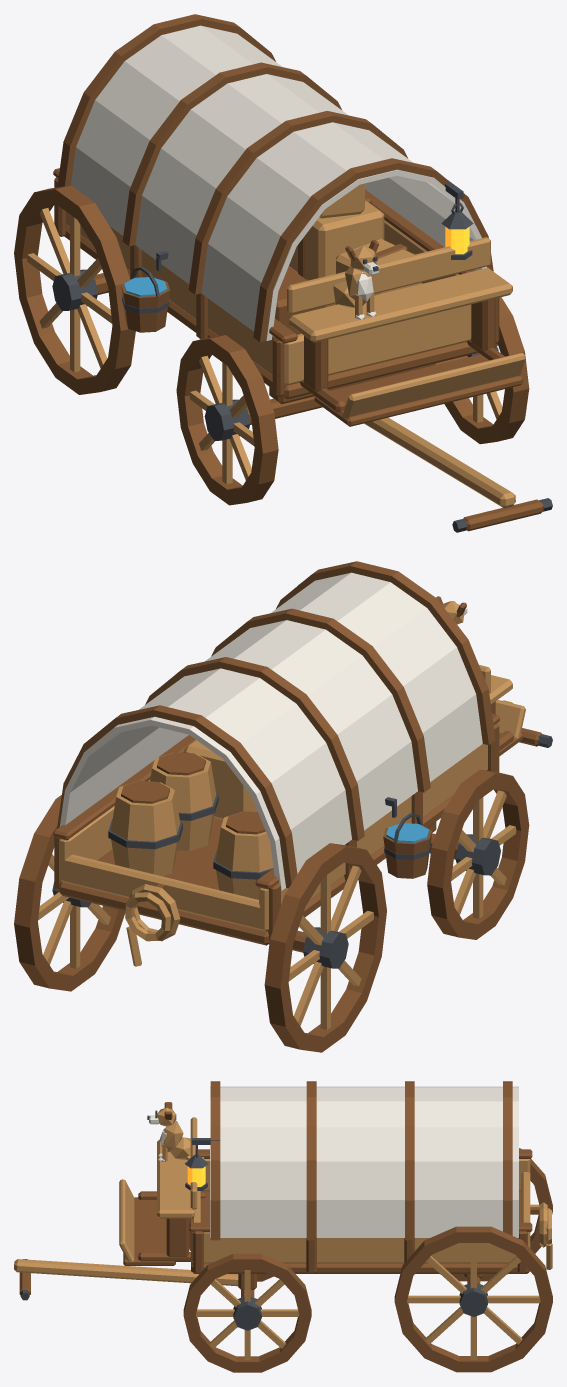
The model's file is merchants-covered-wagon.glb.
3 renders of one model, top to bottom at view 1: azimuth 30°, elevation 25°; view 2: azimuth 150°, elevation 25°; view 3: azimuth 270°, elevation 25°, orthographic. The views are drawn at different scales.
Visible parts, largest first — view 1: Wagon_Cover, Wagon_Body, Wheel_RL, Wheel_FL, Wagon_Cargo, Wheel_FR, Water_Bucket, Dog, Lantern; view 2: Wagon_Cover, Wagon_Body, Wagon_Cargo, Wheel_RL, Wheel_FL, Wheel_RR, Water_Bucket, Rope_Coil; view 3: Wagon_Cover, Wagon_Body, Wheel_RR, Wheel_FR, Dog, Wheel_RL, Lantern, Rope_Coil.
Boxes of the visible parts, <box> form: Wagon_Cover: <box>57,14,493,341</box>; Wagon_Body: <box>53,168,552,532</box>; Wheel_RL: <box>14,185,135,394</box>; Wheel_FL: <box>176,335,278,505</box>; Wagon_Cargo: <box>275,183,422,334</box>; Wheel_FR: <box>444,297,529,444</box>; Water_Bucket: <box>121,251,169,332</box>; Dog: <box>333,239,379,319</box>; Lantern: <box>441,180,473,259</box>; Wagon_Cover: <box>57,561,495,890</box>; Wagon_Body: <box>53,665,552,952</box>; Wagon_Cargo: <box>108,740,273,899</box>; Wheel_RL: <box>264,843,386,1052</box>; Wheel_FL: <box>427,769,529,939</box>; Wheel_RR: <box>14,795,125,991</box>; Water_Bucket: <box>383,797,432,878</box>; Rope_Coil: <box>125,884,180,966</box>; Wagon_Cover: <box>210,1081,518,1240</box>; Wagon_Body: <box>14,1117,532,1300</box>; Wheel_RR: <box>394,1226,552,1372</box>; Wheel_FR: <box>183,1253,311,1372</box>; Dog: <box>147,1102,204,1161</box>; Wheel_RL: <box>440,1148,552,1281</box>; Lantern: <box>185,1138,220,1190</box>; Rope_Coil: <box>530,1202,552,1269</box>.
Size of the model in its own units: 6.63 by 6.87 by 14.3.
